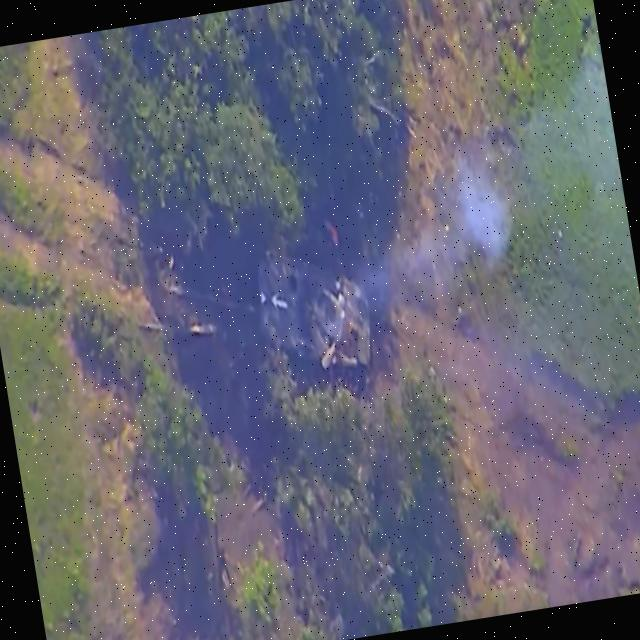AIFV: (246, 232, 385, 399)
